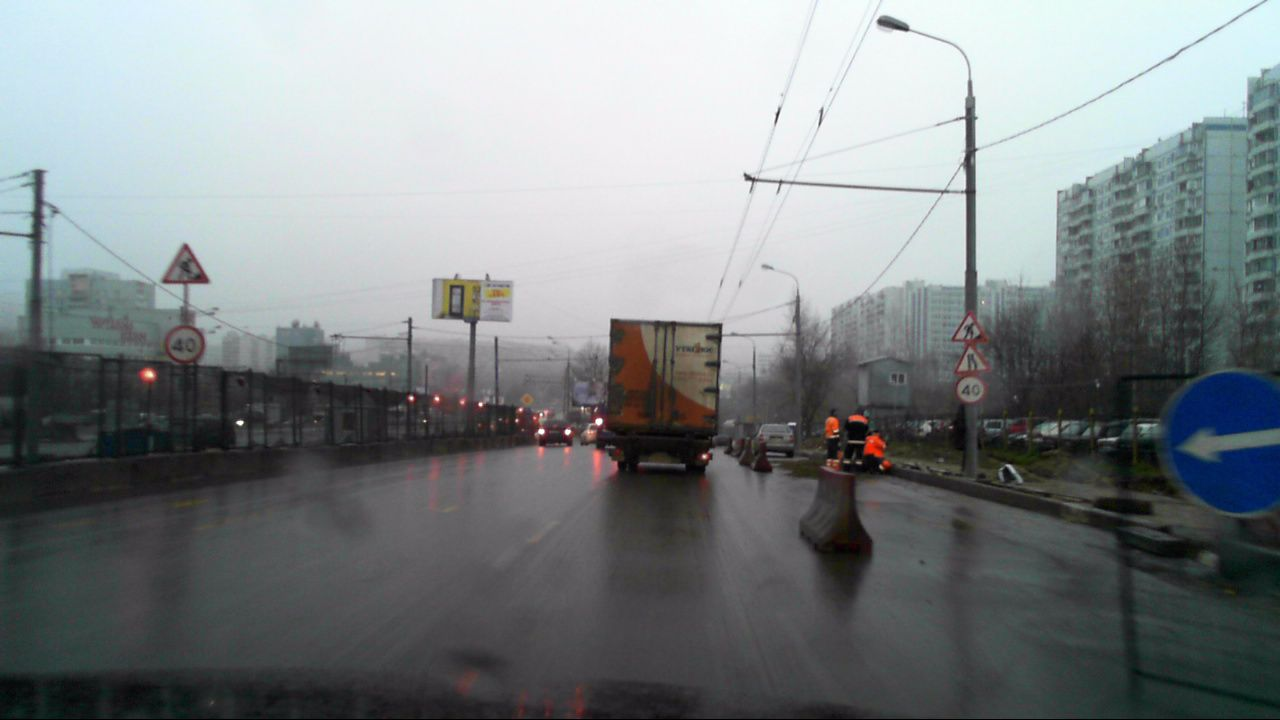Turn Left: (1166, 370, 1280, 515)
speed_warning_40: (956, 377, 984, 404)
